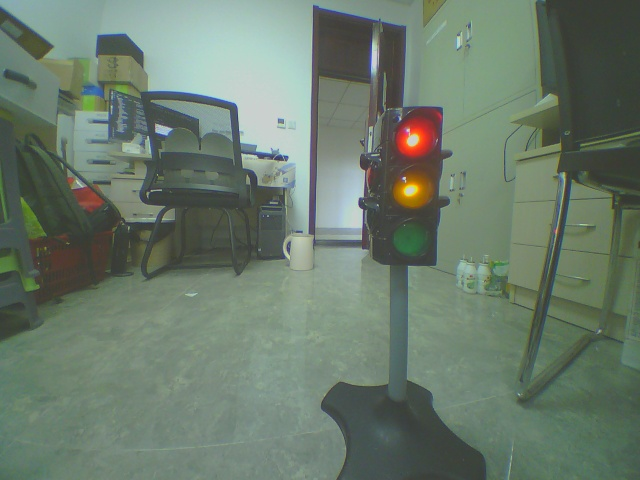Red_Yellow: (359, 97, 458, 268)
